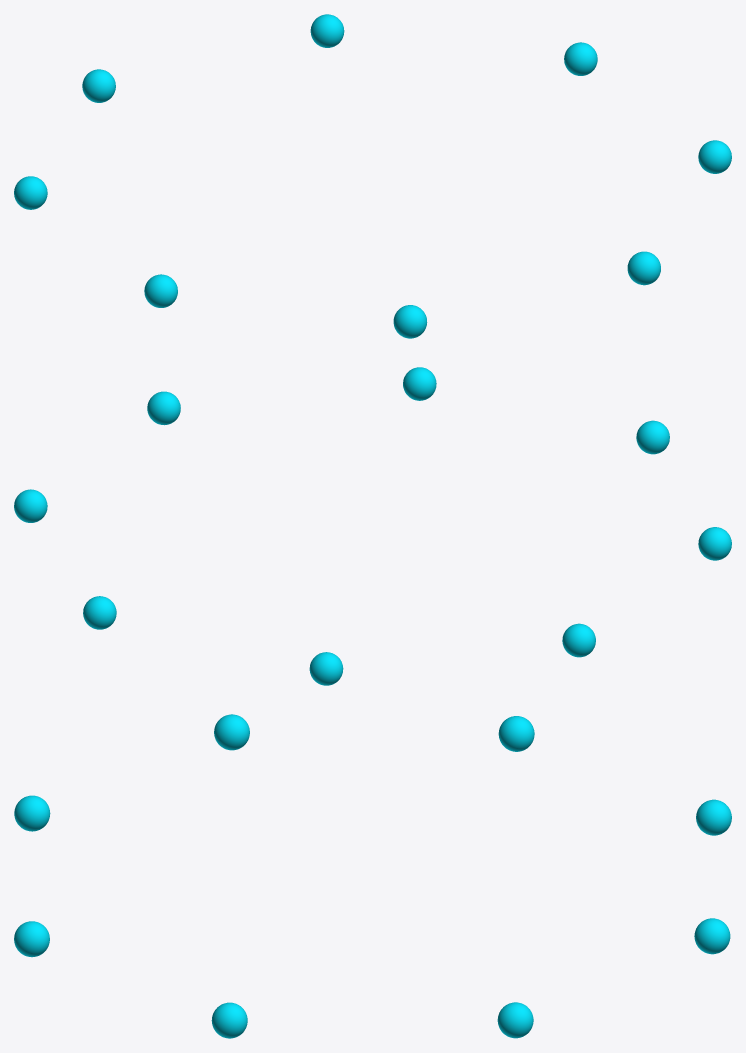
The picture shows the model from 3 angles, top to bottom: view 1: azimuth 30°, elevation 25°; view 2: azimuth 150°, elevation 25°; view 3: azimuth 270°, elevation 25°; orthographic projection. The views are drawn at different scales.
Visible parts, largest first — view 1: Sphere050; view 2: Sphere050; view 3: Sphere050.
Part boxes in pixels (left/top/right/bottom): Sphere050: left=14, top=14, right=731, bottom=338; Sphere050: left=14, top=367, right=731, bottom=685; Sphere050: left=14, top=714, right=731, bottom=1038.
Bounding box in the file's own units: 164 × 9.17 × 164.
